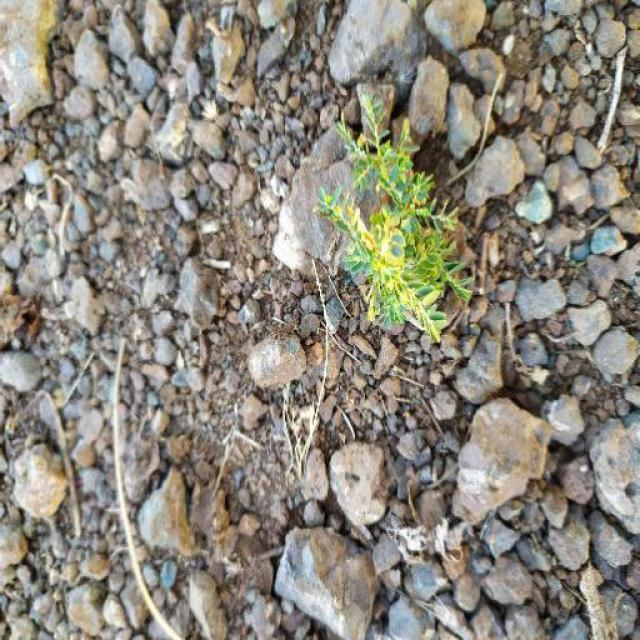weed: (311, 130, 485, 361)
